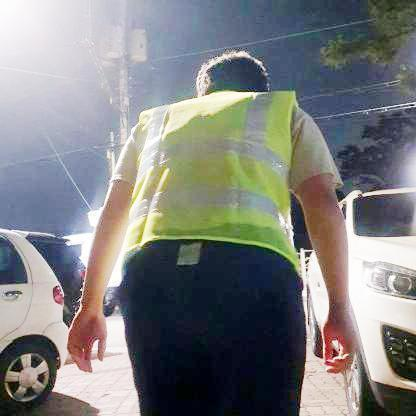no-helmet: (192, 47, 275, 90)
vest: (133, 90, 307, 279)
